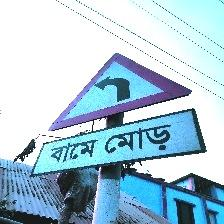Left-Turn: (34, 54, 203, 175)
